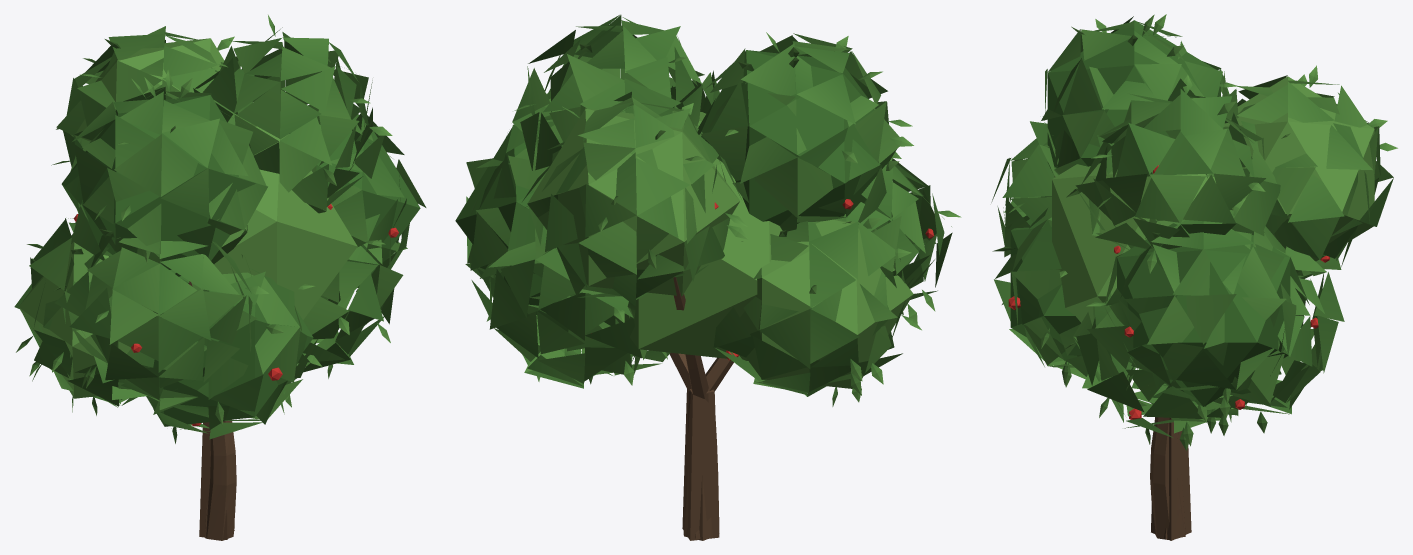
File: apple.glb
3 views of the same model, side by side, from view 1: azimuth 30°, elevation 25°; view 2: azimuth 150°, elevation 25°; view 3: azimuth 270°, elevation 25° (orthographic). The views are drawn at different scales.
Visible parts, largest first — view 1: leaves (×3), trunk; view 2: leaves (×3), trunk; view 3: leaves (×3), trunk.
Boxes of the visible parts, x1,y1,x2,y2 form: leaves (×3): (14, 15, 426, 539); trunk: (188, 281, 236, 540); leaves (×3): (455, 14, 961, 540); trunk: (669, 277, 733, 538); leaves (×3): (991, 14, 1397, 540); trunk: (1054, 176, 1186, 539).
Size of the model in its own units: 0.8637 by 1 by 0.7698.
